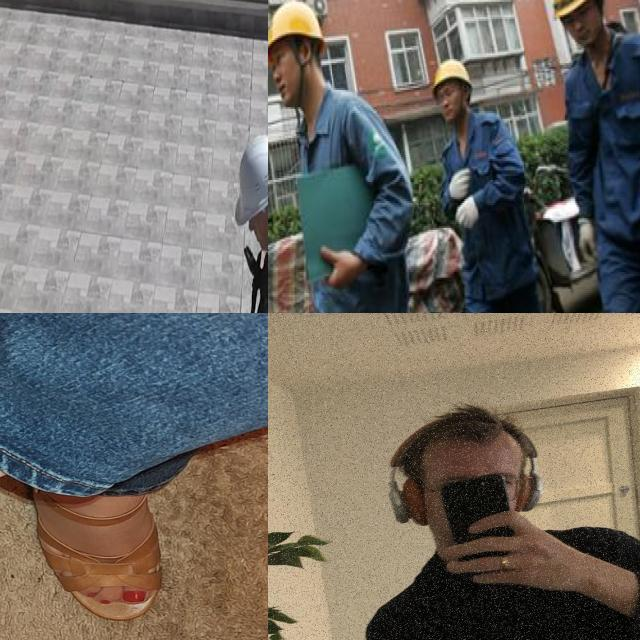hand_glove: (448, 168, 480, 228)
head_helmet: (268, 0, 324, 62), (436, 59, 472, 94), (553, 0, 593, 18)
head_nohelmet: (382, 389, 544, 472)
person: (357, 373, 640, 640)
